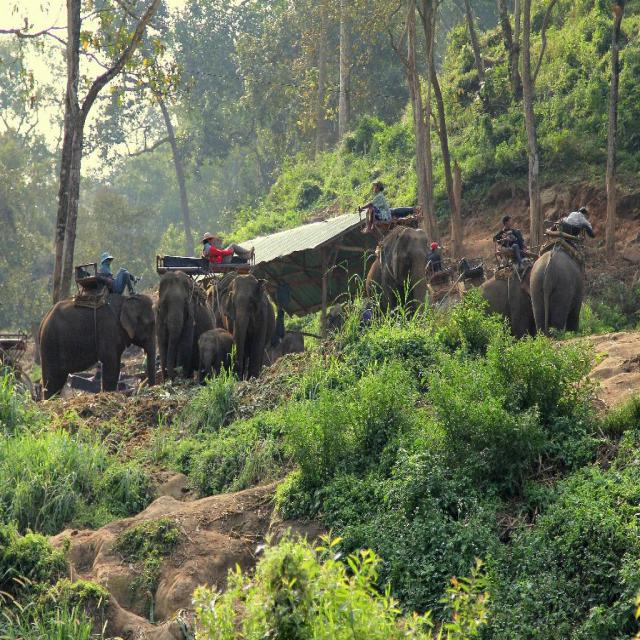elephant: (33, 274, 153, 411), (152, 274, 218, 382), (530, 243, 595, 349), (368, 224, 432, 327), (228, 275, 283, 385), (482, 272, 544, 343)
